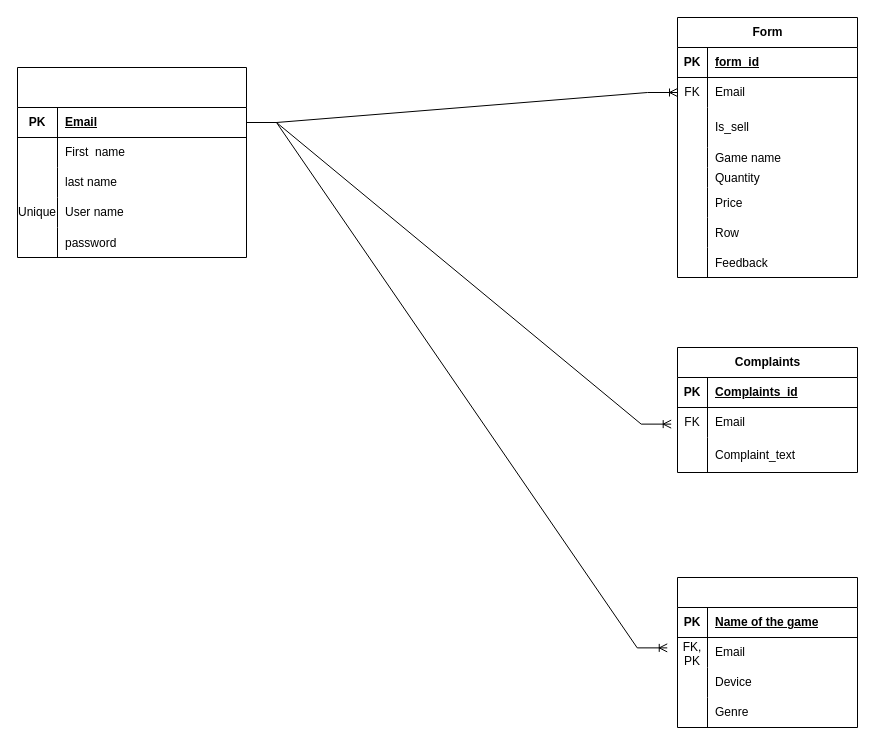
Image size: 875x745. Some labels were removed from this diagram. The shapes that lost their labels are listed below. From the top down, each one's box as (x1, y1, x2, y2) in pixels, then its label:
(16, 66, 246, 258): Login(users)
(676, 576, 858, 728): Bought games
